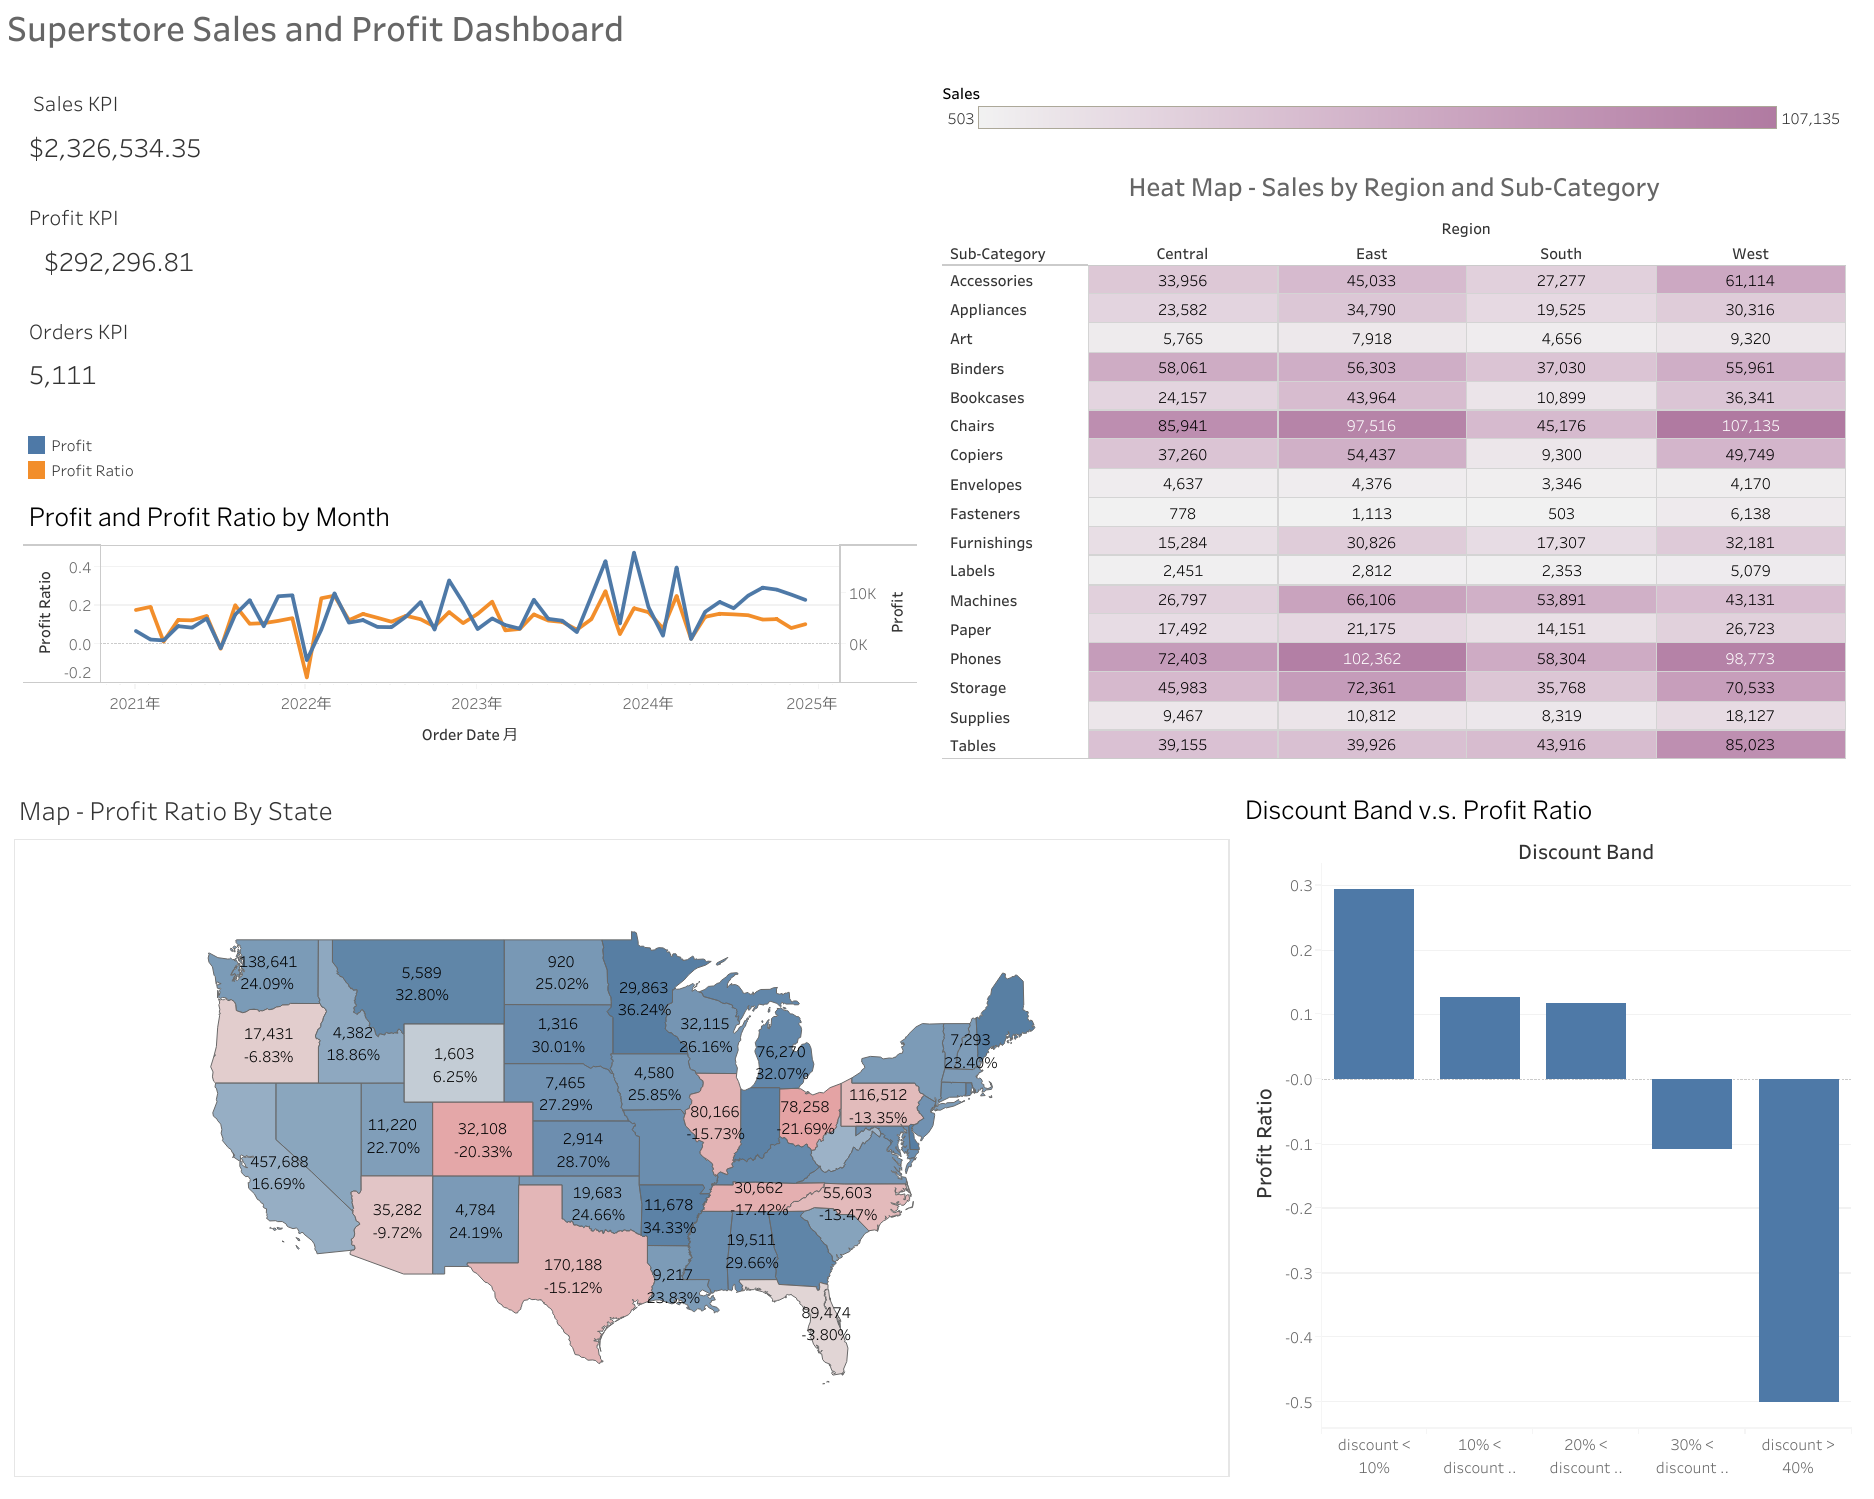

The dashboard page shown, as its layout file describes it:
{"tool":"tableau","page":{"name":"Superstore Sales and Profit Dashboard","canvas":[1500,1200],"ordinal":0},"visuals":[{"type":"legend","title":"Heat Map - Sales by Region and Sub-Category","param":"[federated.0pn3ujy0yx6nqe0ztl0og17wepxc].[sum:Sales:qk]","box":[750,64,731,73]},{"type":"worksheet","title":"KPIs - Sales KPI","mark":"Automatic","box":[15,68,723,91]},{"type":"worksheet","title":"Heat Map - Sales by Region and Sub-Category","mark":"Square","rows":["Sub-Category"],"cols":["Region"],"box":[750,137,731,477.8]},{"type":"worksheet","title":"KPIs - Profit KPI","mark":"Automatic","box":[15,159,723,91]},{"type":"worksheet","title":"KPIs - Orders KPI","mark":"Automatic","box":[15,250,723,91]},{"type":"legend","title":"Profit and Profit Ratio by Month (2024)","param":"[federated.0pn3ujy0yx6nqe0ztl0og17wepxc].[:Measure Names]","box":[15,349,723,50]},{"type":"worksheet","title":"Profit and Profit Ratio by Month (2024)","mark":"Automatic","rows":["Calculation_1089370516848640","Profit"],"cols":["Order Date"],"box":[15,399,723,212]},{"type":"worksheet","title":"Map - Profit Ratio By State","mark":"Multipolygon","box":[7,627,981,559]},{"type":"worksheet","title":"Discount Band v.s. Profit Ratio","mark":"Automatic","rows":["Calculation_1089370516848640"],"cols":["Calculation_1089370518532099"],"box":[988,627,497,559]}]}

Visuals, with their boxes in screenshot pixels (x1, y1, x2, y2), scaled from the page's 1500x1200 canvas onto the 1874x1499 screenshot:
"Heat Map - Sales by Region and Sub-Category" legend: <region>937, 80, 1850, 171</region>
"KPIs - Sales KPI" worksheet: <region>19, 85, 922, 199</region>
"Heat Map - Sales by Region and Sub-Category" worksheet (Square marks): <region>937, 171, 1850, 768</region>
"KPIs - Profit KPI" worksheet: <region>19, 199, 922, 312</region>
"KPIs - Orders KPI" worksheet: <region>19, 312, 922, 426</region>
"Profit and Profit Ratio by Month (2024)" legend: <region>19, 436, 922, 498</region>
"Profit and Profit Ratio by Month (2024)" worksheet: <region>19, 498, 922, 763</region>
"Map - Profit Ratio By State" worksheet (Multipolygon marks): <region>9, 783, 1234, 1482</region>
"Discount Band v.s. Profit Ratio" worksheet: <region>1234, 783, 1855, 1482</region>
